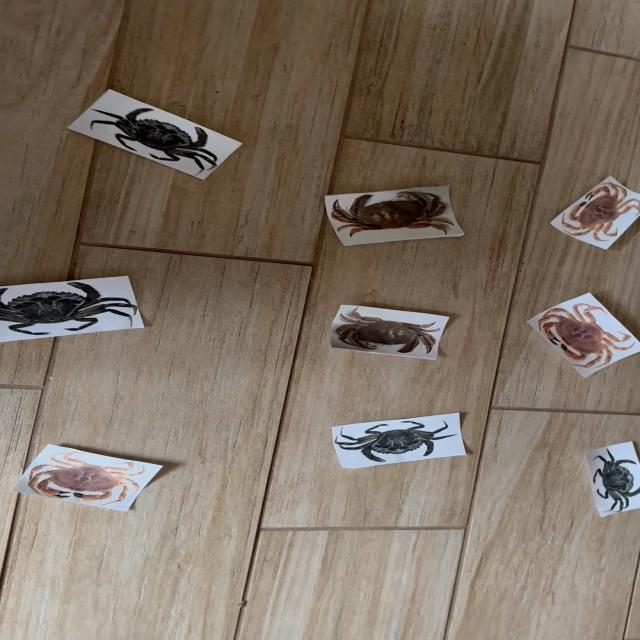egc: (91, 109, 216, 170), (0, 281, 136, 336), (334, 420, 454, 463), (593, 449, 639, 510)
